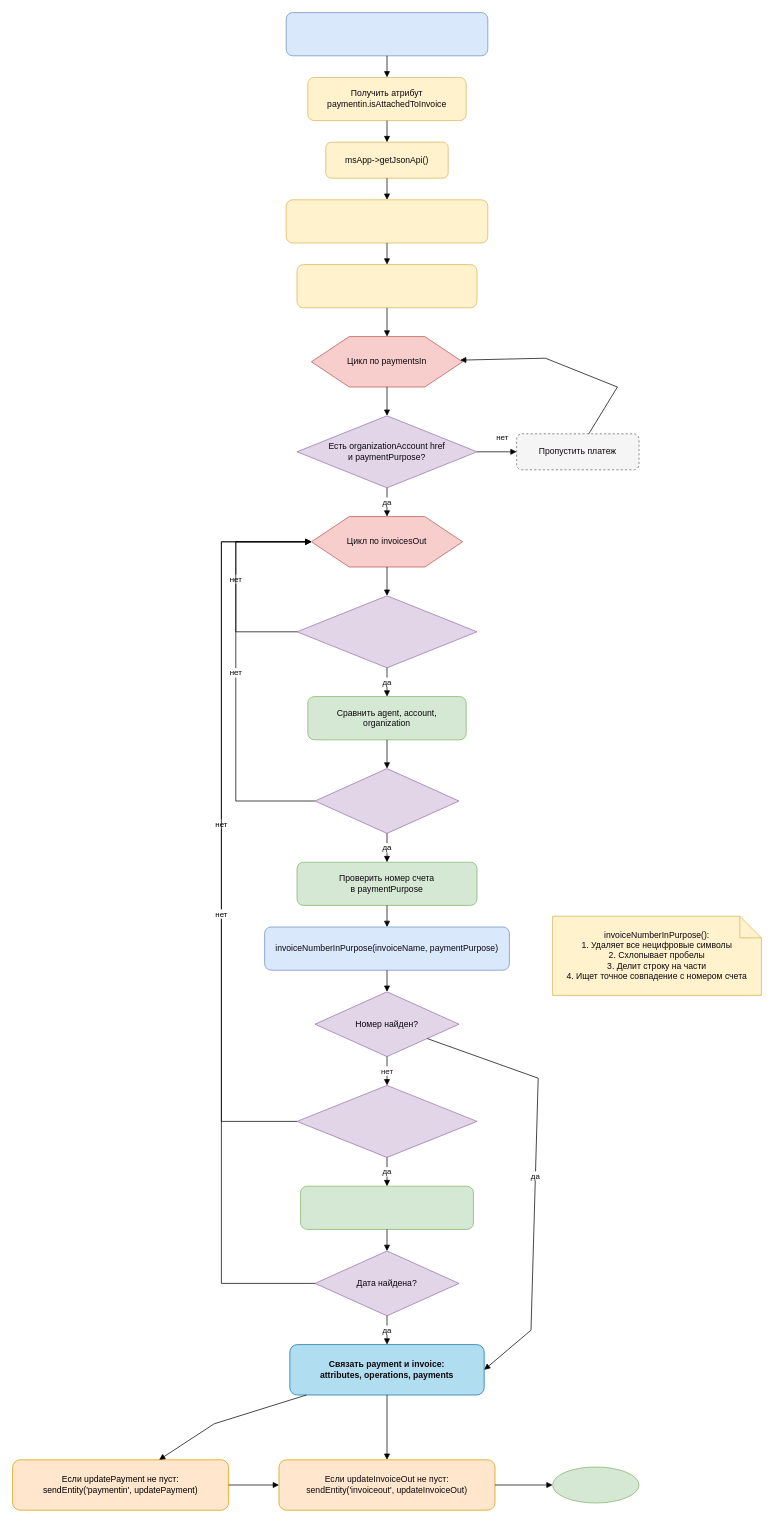
The diagram is 774 pixels wide and 1523 high, and some of its shapes have lost their labels. The box of each missing label's shape, as (x1, y1, x2, y2) in pixels:
attachToInvoiceOut(paymentsIn, msApp): (285, 12, 488, 56)
Все совпадают?: (314, 768, 459, 833)
Загрузить invoiceout expand: organizationAccount, agent: (285, 199, 488, 243)
Искать дату счета в paymentPurpose: (300, 1185, 473, 1229)
Конец: (552, 1466, 639, 1503)
Отфильтровать: sum != payedSum * 100: (296, 264, 477, 308)
Сумма счета равна сумме платежа?: (296, 1085, 477, 1157)
У счета есть organizationAccount href?: (296, 595, 477, 668)
